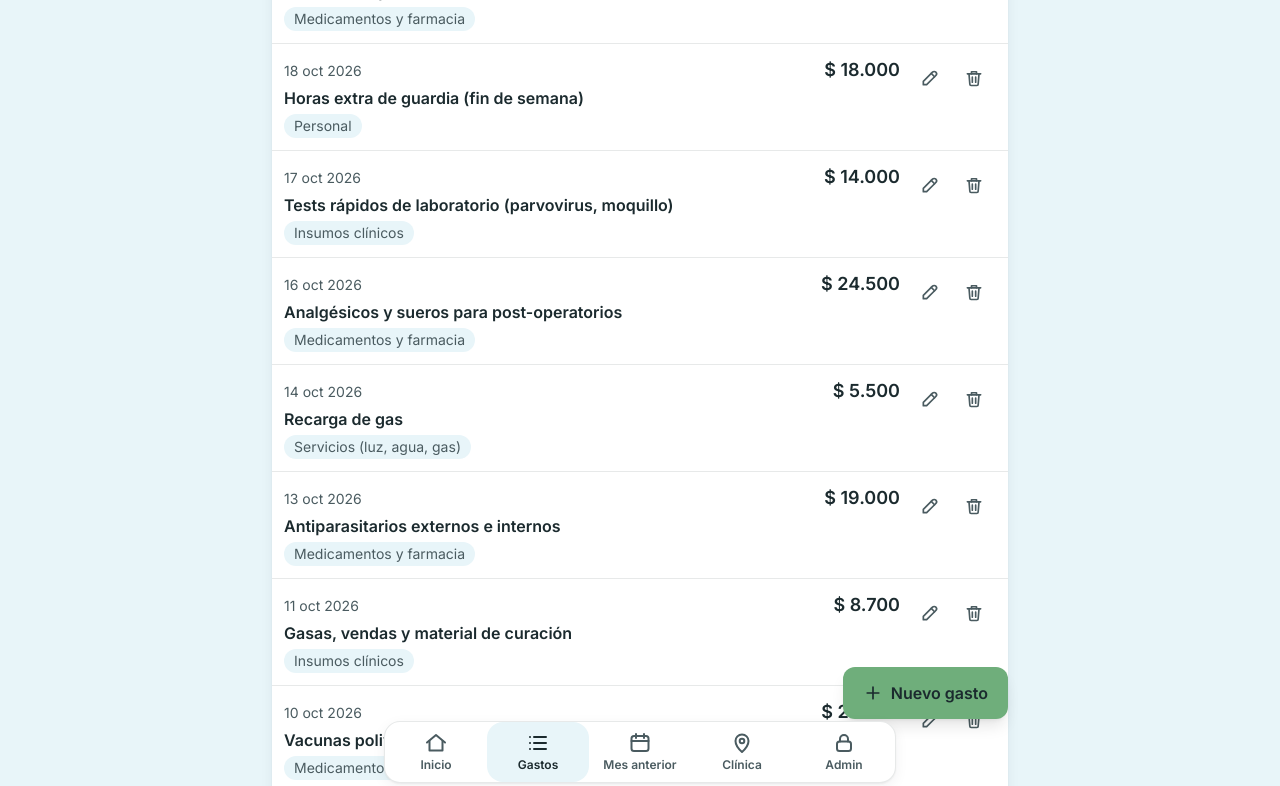
Test: Editing and deleting › deletes after confirming and updates totals right away
The image size is (1280, 786).
(page scrolled)
Click the button named "Eliminar gasto: Recarga de gas" at (974, 399), box [952, 377, 996, 421]
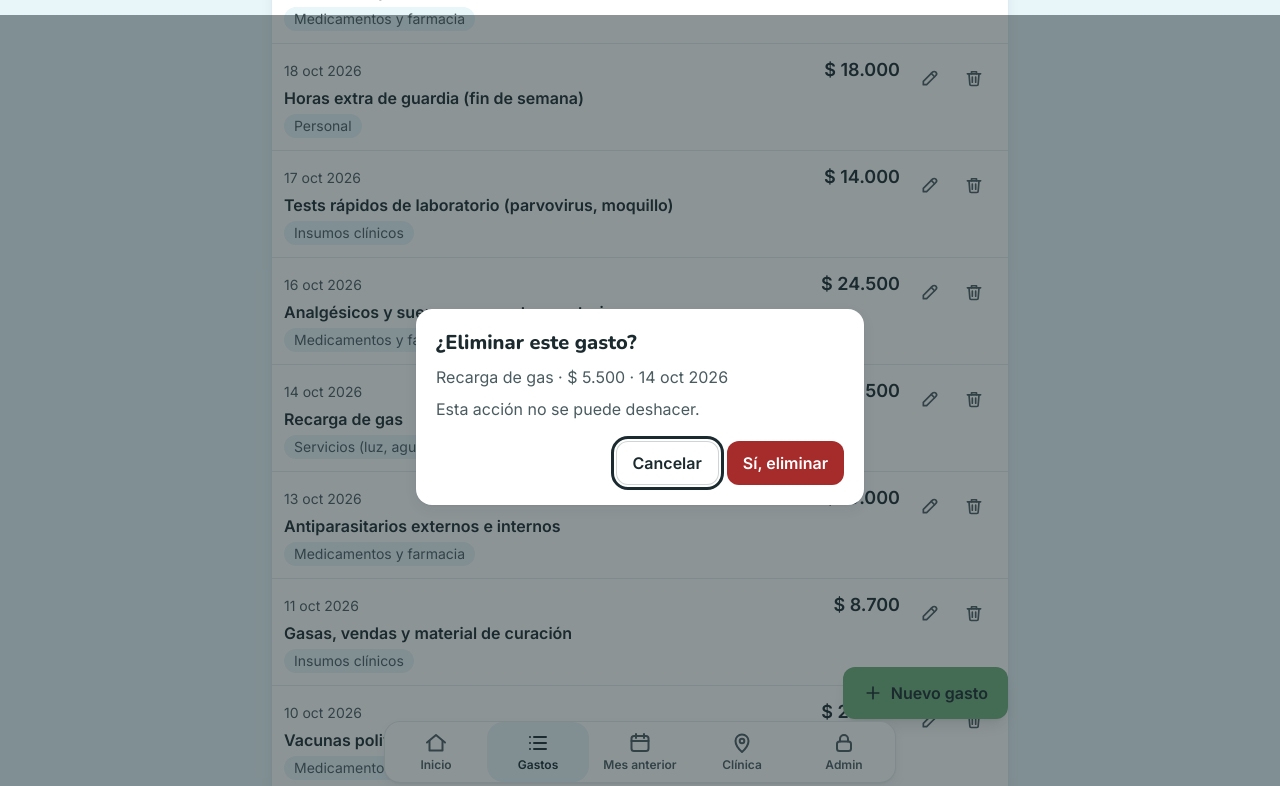
Click the button "Sí, eliminar" at (785, 463), box [727, 441, 844, 485]
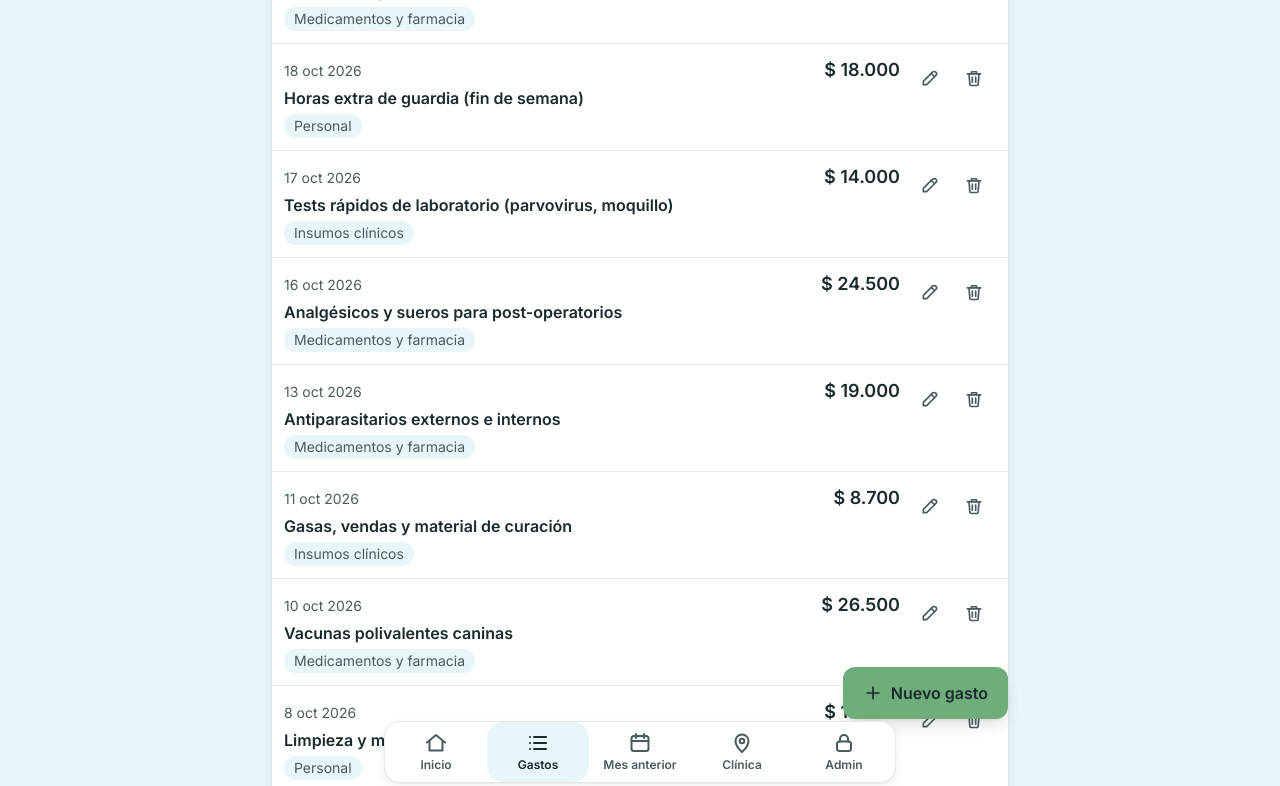
Click the link "Inicio" at (436, 752), box [420, 731, 452, 772]
(page scrolled)
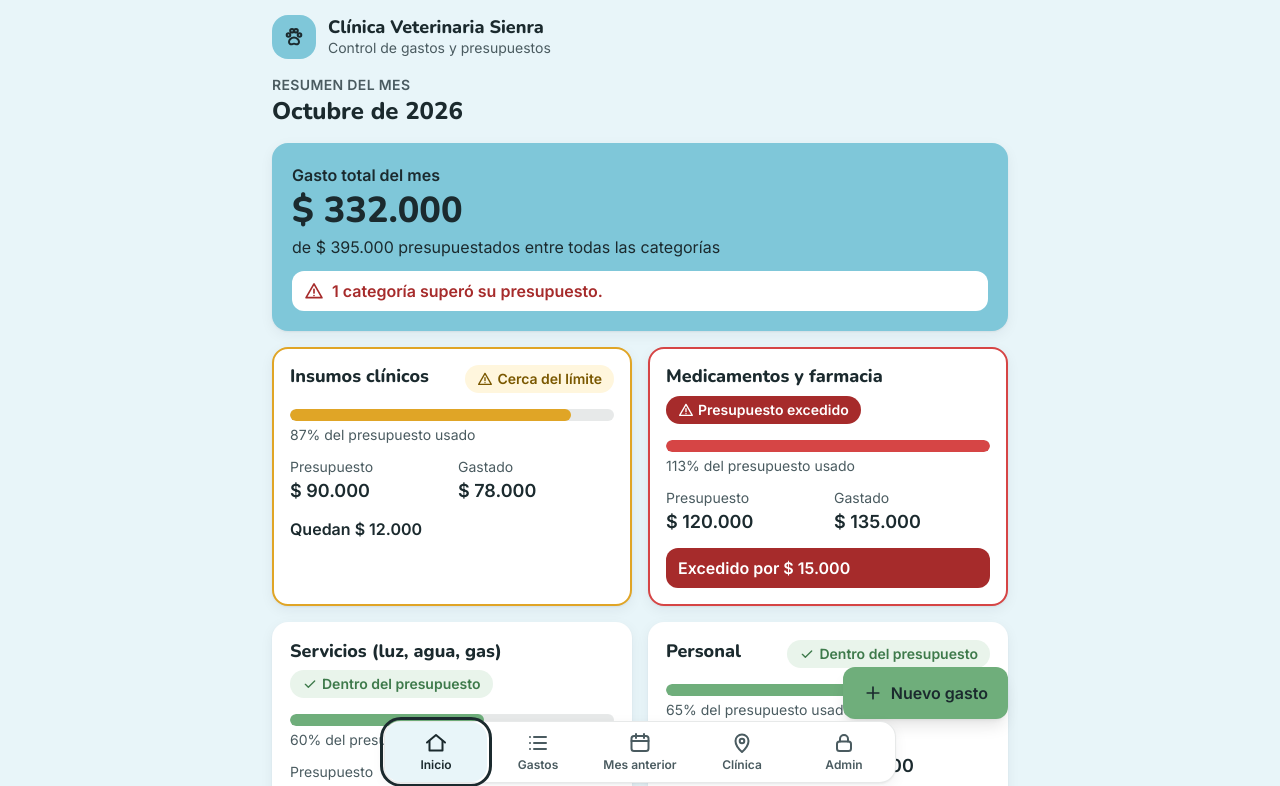
Now the text with test id "month-total" reads "$ 332.000", box [292, 186, 463, 235]
